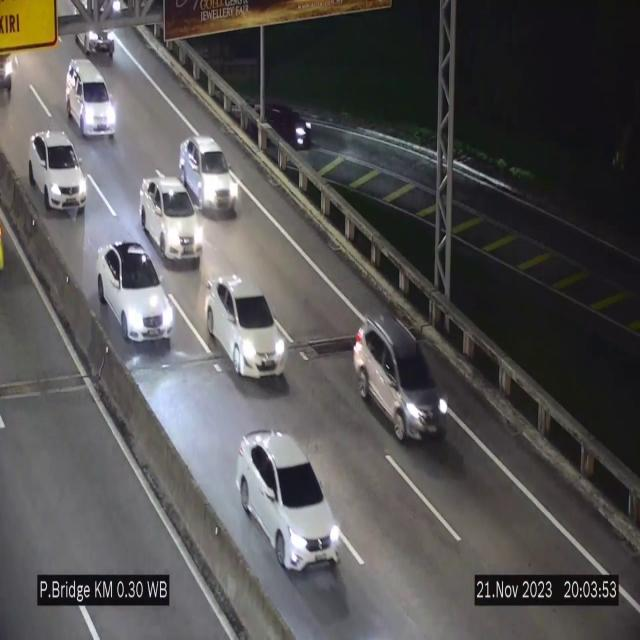Car: (236, 430, 343, 572), (354, 324, 451, 441), (206, 276, 288, 378), (97, 242, 175, 343), (140, 175, 204, 264), (29, 130, 87, 212), (179, 136, 239, 215), (246, 94, 314, 156), (66, 59, 116, 137)
